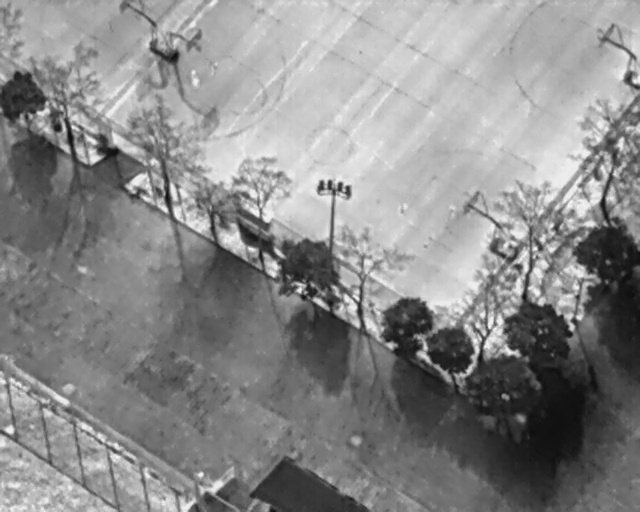Person: (190, 68, 199, 90), (397, 200, 407, 219), (448, 199, 456, 219)
